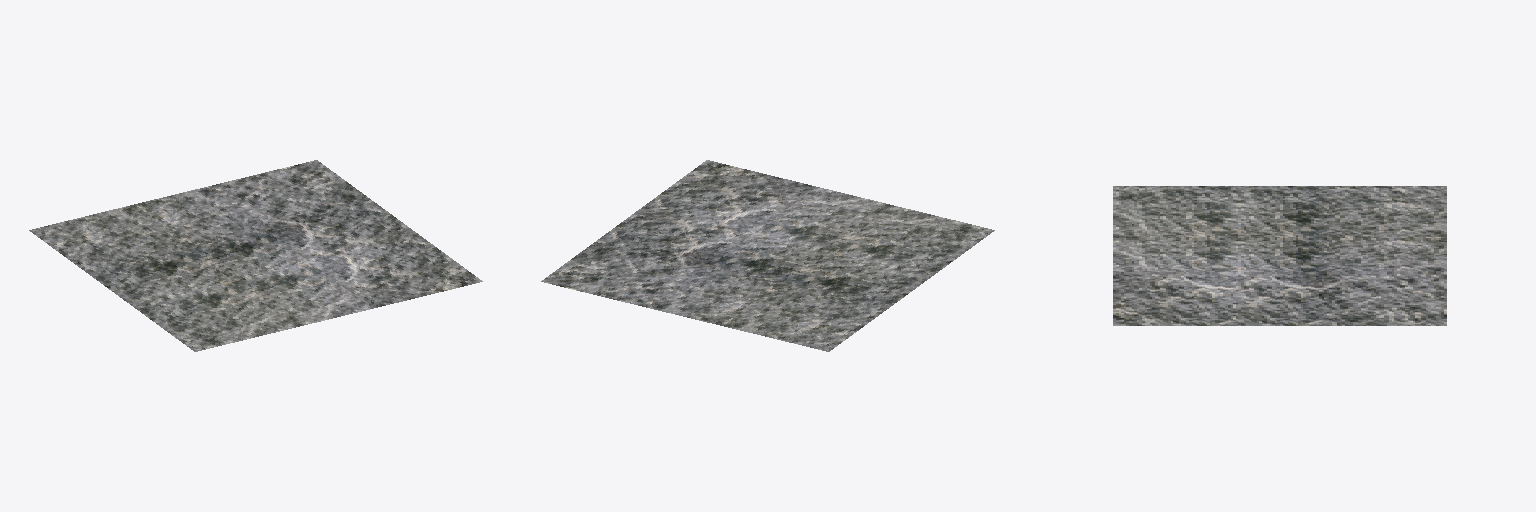
3 views of the same model, side by side, from view 1: azimuth 30°, elevation 25°; view 2: azimuth 150°, elevation 25°; view 3: azimuth 270°, elevation 25° (orthographic).
Size of the model in its own units: 2 by 0 by 2.
Materials: 1 (1 with a texture image).